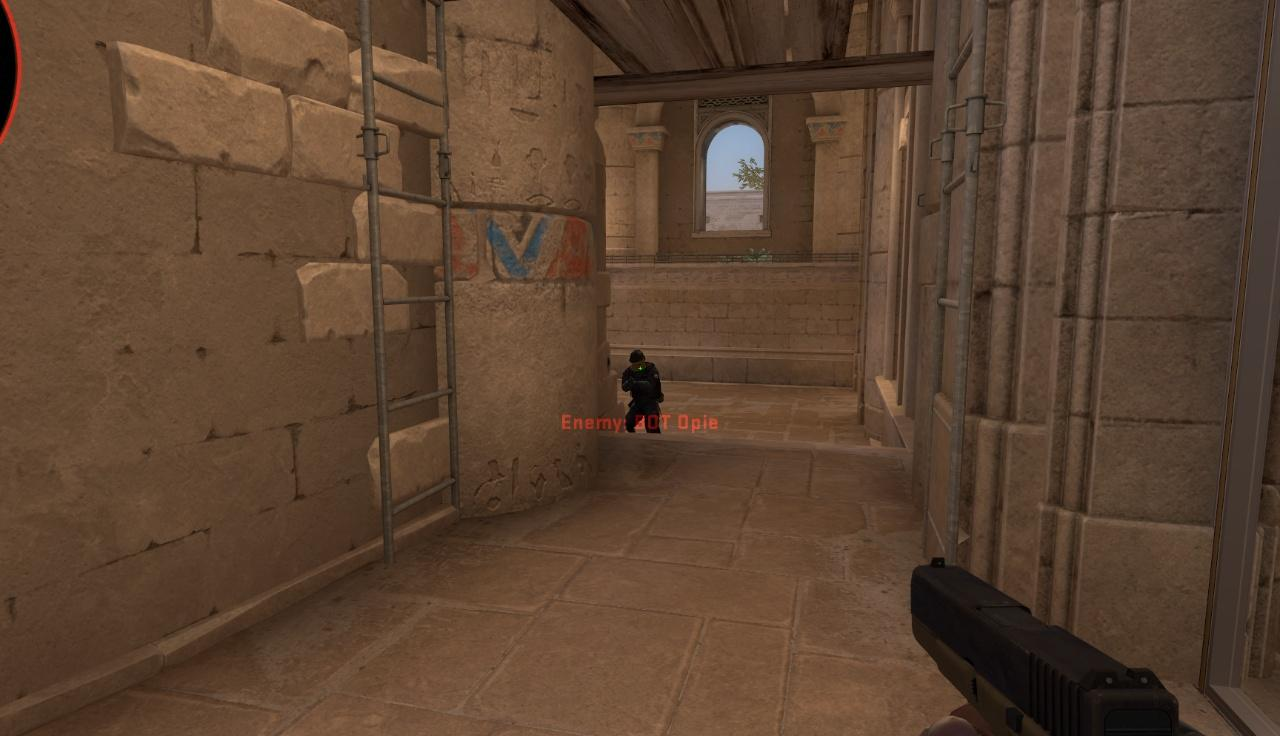ct: (622, 349, 662, 434)
cthead: (629, 350, 646, 371)
pistol: (906, 555, 1177, 736)
